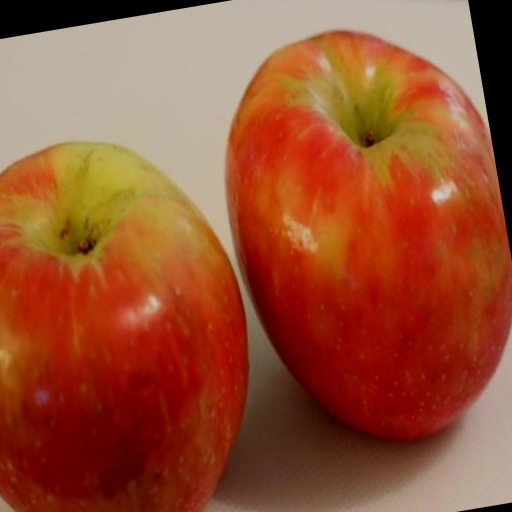fruit: (226, 32, 512, 438), (0, 143, 248, 512)
